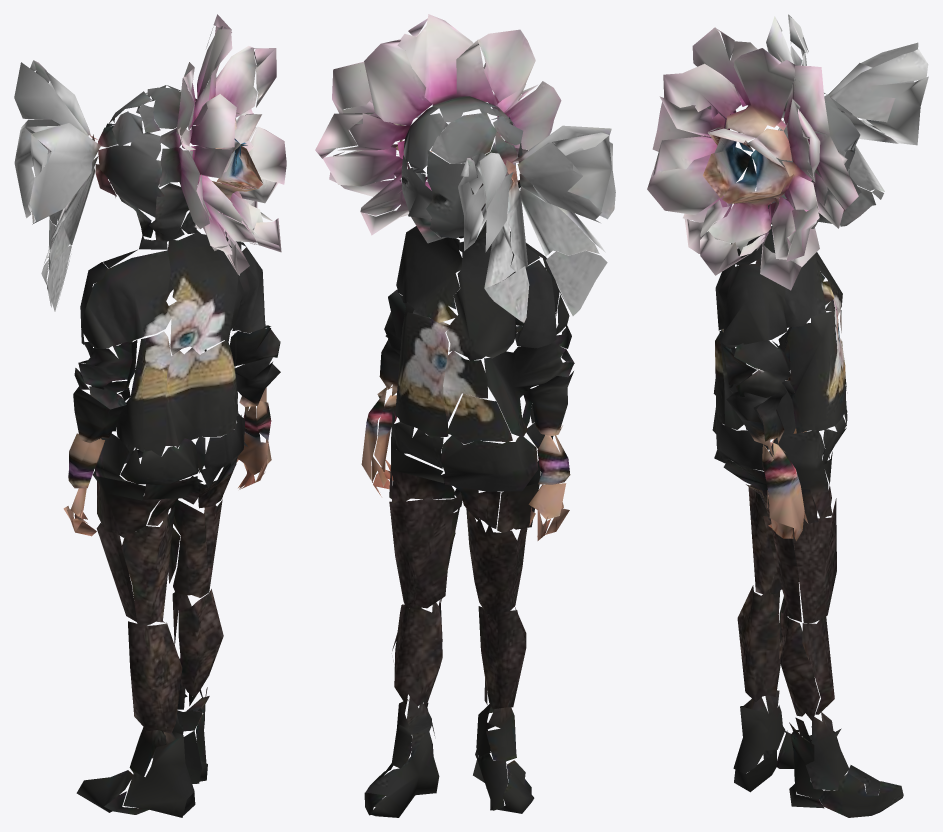
Rendered from crowd_susan_full.glb.
3 views of the same model, side by side, from view 1: azimuth 30°, elevation 25°; view 2: azimuth 150°, elevation 25°; view 3: azimuth 270°, elevation 25° (orthographic).
Parts seen in each view (by area): view 1: tripo_node_fbabcdb4-667d-453d-b6af-065c32072f40; view 2: tripo_node_fbabcdb4-667d-453d-b6af-065c32072f40; view 3: tripo_node_fbabcdb4-667d-453d-b6af-065c32072f40.
Part boxes in pixels (x1,y1,x2,y2): tripo_node_fbabcdb4-667d-453d-b6af-065c32072f40: [14, 14, 286, 817]; tripo_node_fbabcdb4-667d-453d-b6af-065c32072f40: [315, 14, 615, 817]; tripo_node_fbabcdb4-667d-453d-b6af-065c32072f40: [647, 14, 928, 817].
Size of the model in its own units: 0.382 by 1 by 0.3332.
1 material, 1 textured.
